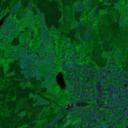alloviz: (54, 71, 67, 90)
